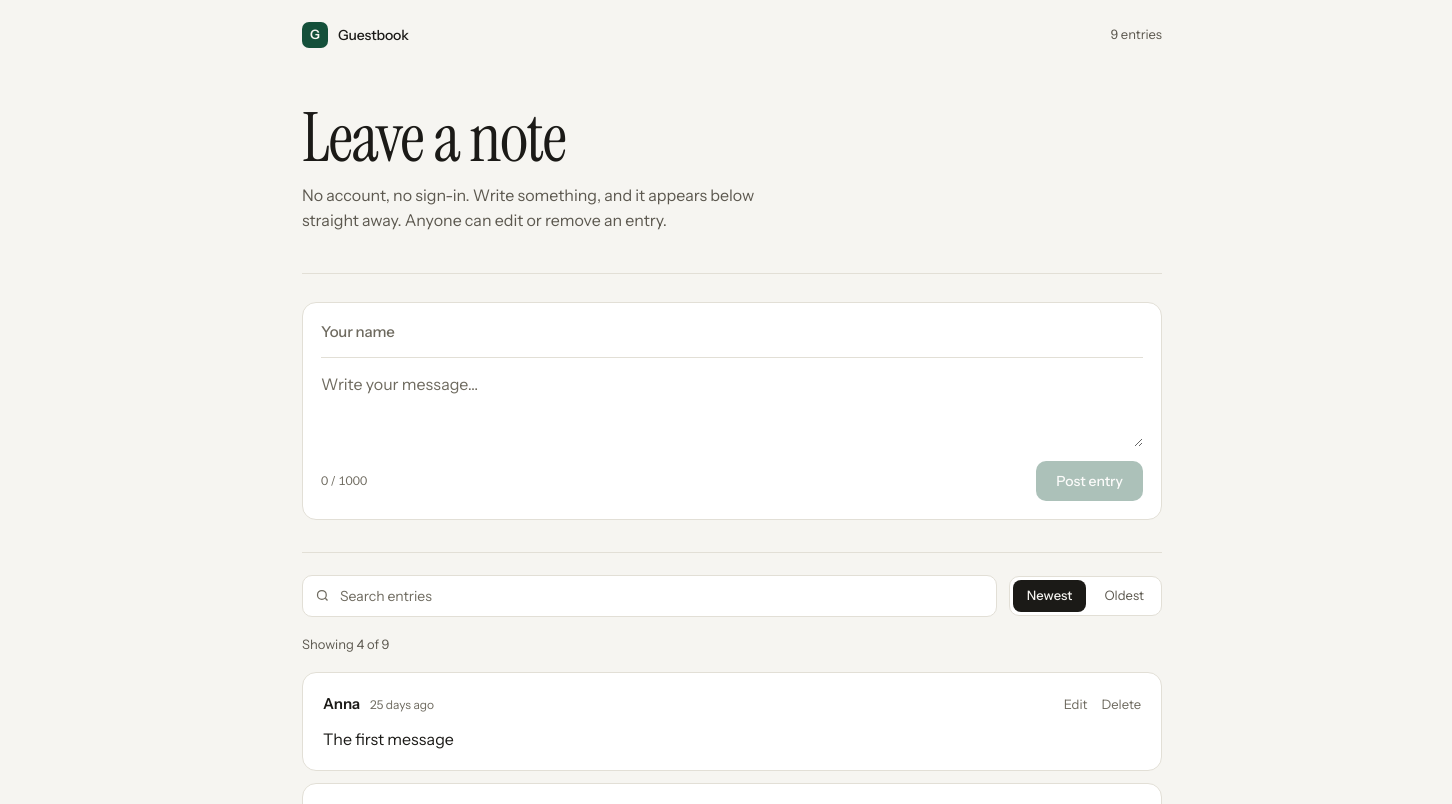
searching › says nothing matches, not that the book is empty
Check: the text "The first message" is shown, box [323, 729, 454, 749]
In the search field labelled "Search entries": (662, 596) [340, 586, 984, 606], type "zzz"
(page scrolled)
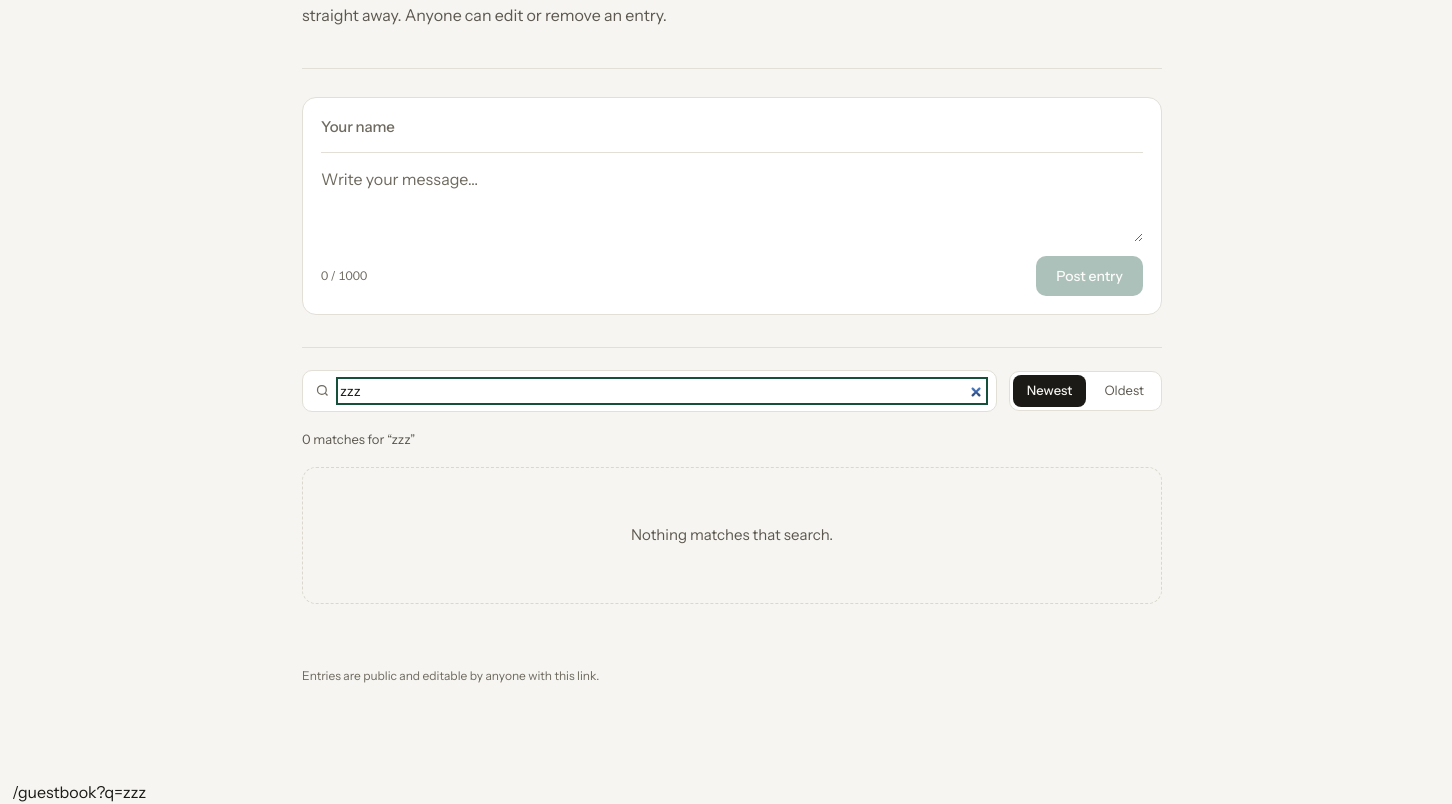
Check: the text "Nothing matches that search." is shown, box [302, 467, 1162, 604]
